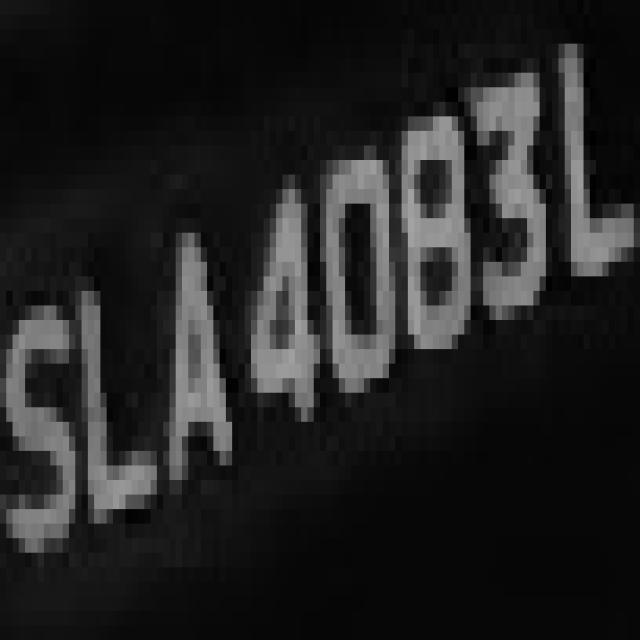0: (295, 131, 395, 393)
3: (452, 44, 552, 378)
4: (226, 131, 326, 436)
8: (383, 58, 477, 378)
A: (144, 232, 238, 552)
L: (62, 232, 150, 552), (5, 0, 6, 7)
S: (6, 262, 76, 567)
